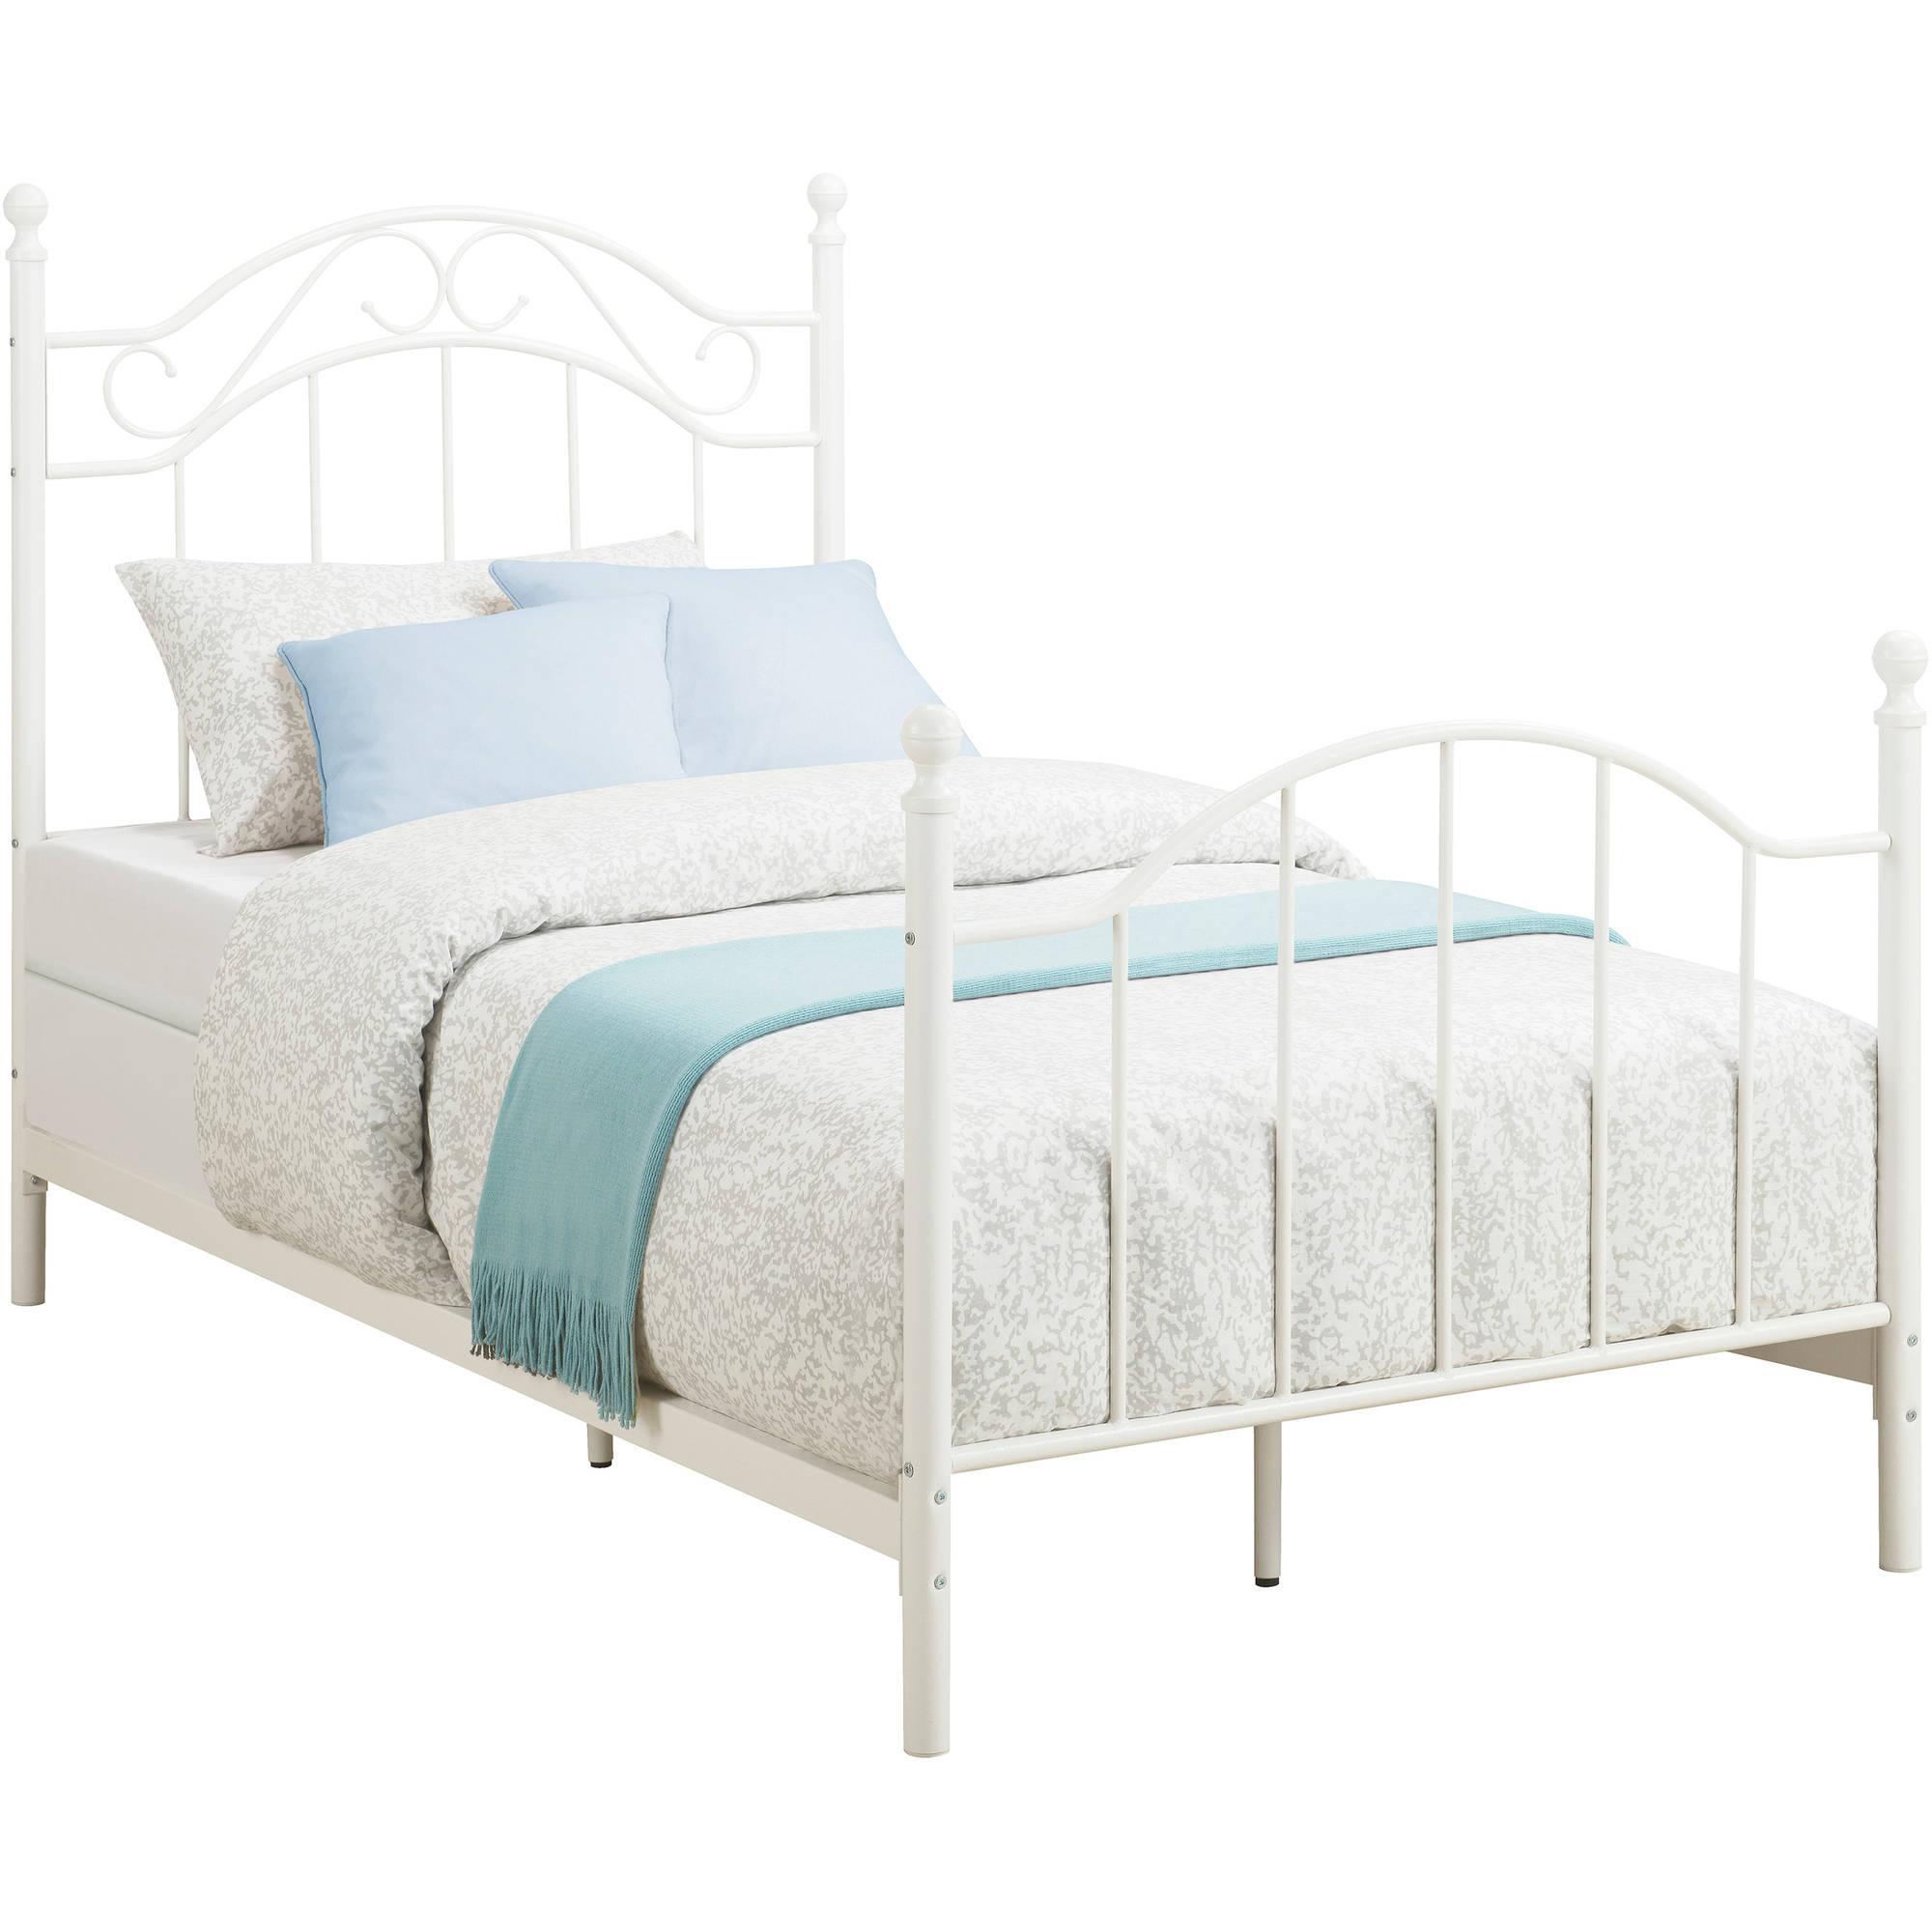bed: (5, 180, 1932, 1831)
